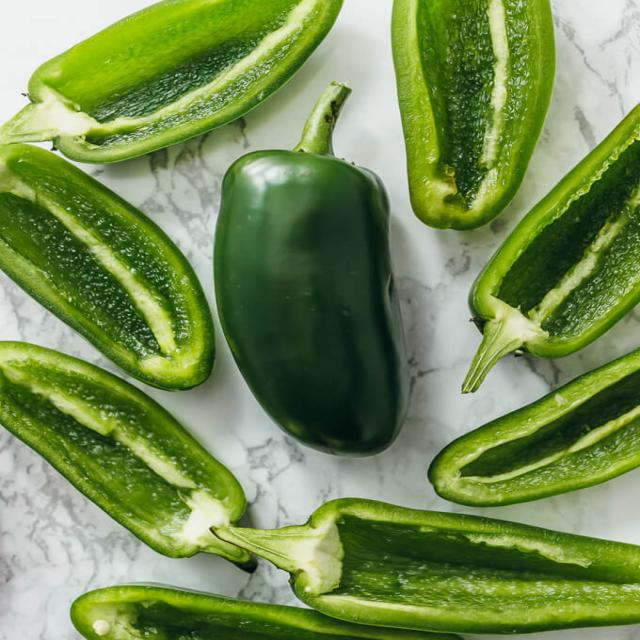aji: (17, 1, 640, 640), (214, 142, 440, 447)
